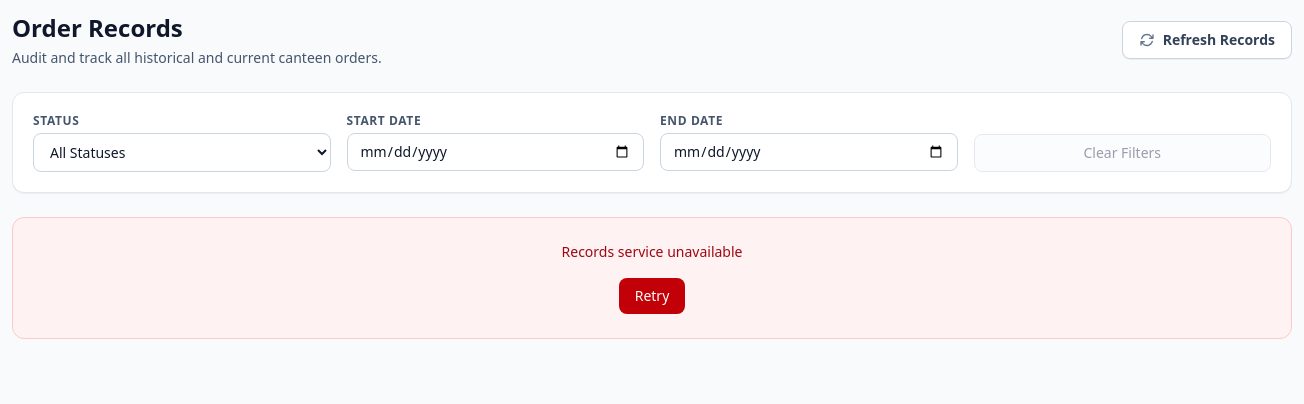
Test case: Increment 4: records, filters, and retry UI › shows a server error and retries to load records
Check: the message shows "Records service unavailable", box [562, 242, 742, 261]
Click the button "Retry" at (652, 296), box [619, 278, 685, 314]
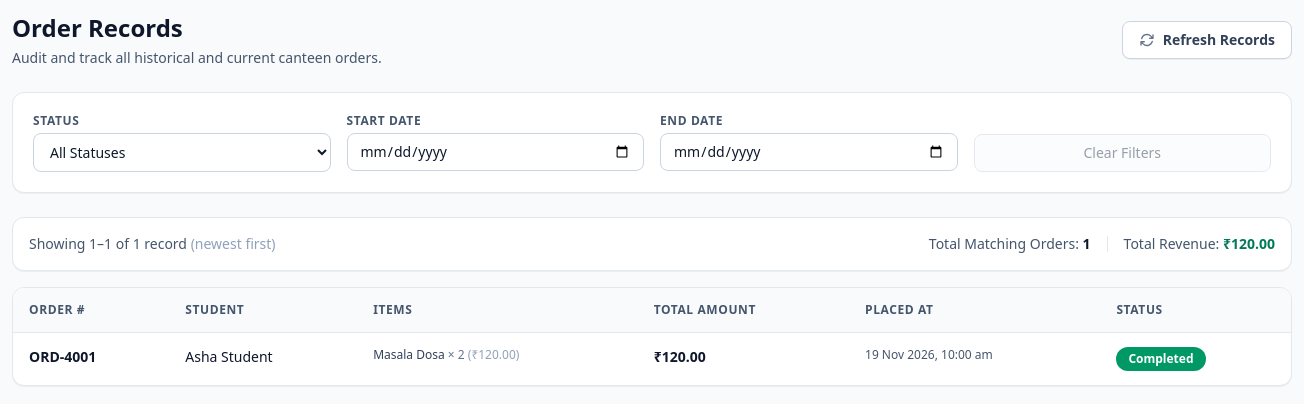
Check: the row "ORD-4001" is shown, box [13, 332, 1291, 385]
